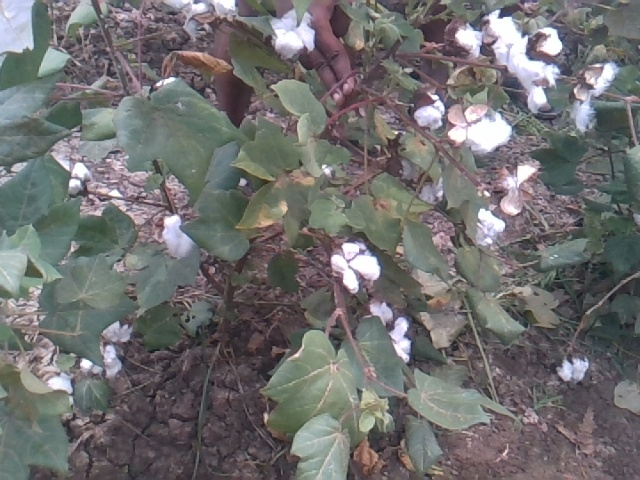cotton: (328, 237, 382, 297), (574, 62, 617, 136), (447, 108, 515, 153), (510, 38, 551, 103), (266, 5, 317, 55), (484, 12, 520, 61), (47, 374, 78, 422), (471, 206, 502, 252), (81, 345, 124, 378), (388, 317, 416, 364), (162, 214, 191, 259), (449, 23, 482, 60), (64, 160, 93, 198), (417, 90, 443, 130), (554, 353, 588, 380), (360, 300, 394, 326), (102, 318, 131, 344)
